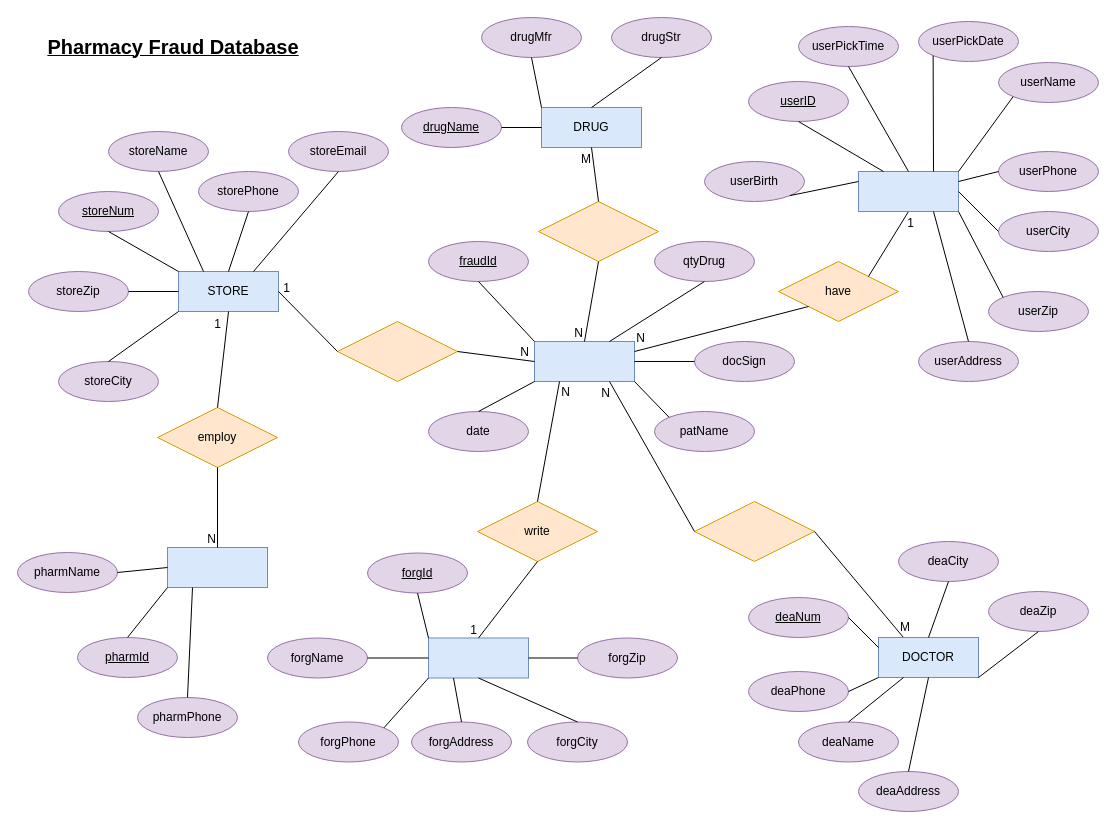
The diagram is 1116 pixels wide and 829 high, and some of its shapes have lost their labels. The box of each missing label's shape, as (x1, y1, x2, y2) in pixels:
contains: (538, 200, 658, 262)
dispenses: (336, 320, 458, 382)
FORGER: (428, 637, 528, 678)
PHARMACIST: (166, 546, 268, 588)
prescribes: (694, 500, 814, 562)
PRESCRIPTION: (534, 340, 634, 382)
USER: (858, 170, 958, 212)
